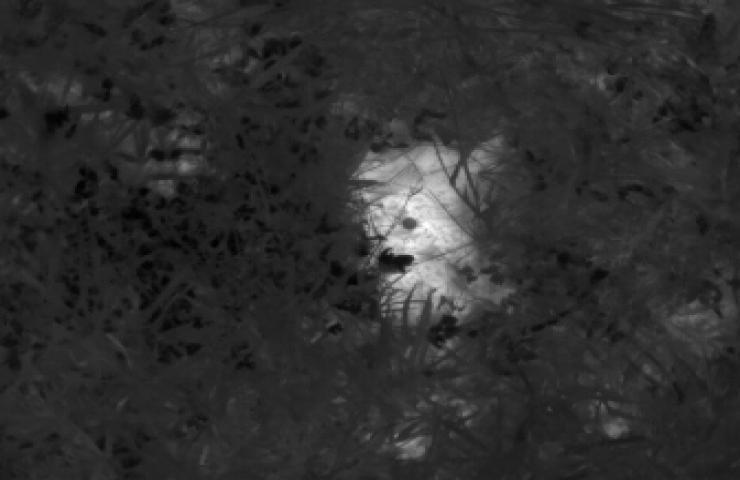landmines: (341, 138, 524, 332)
